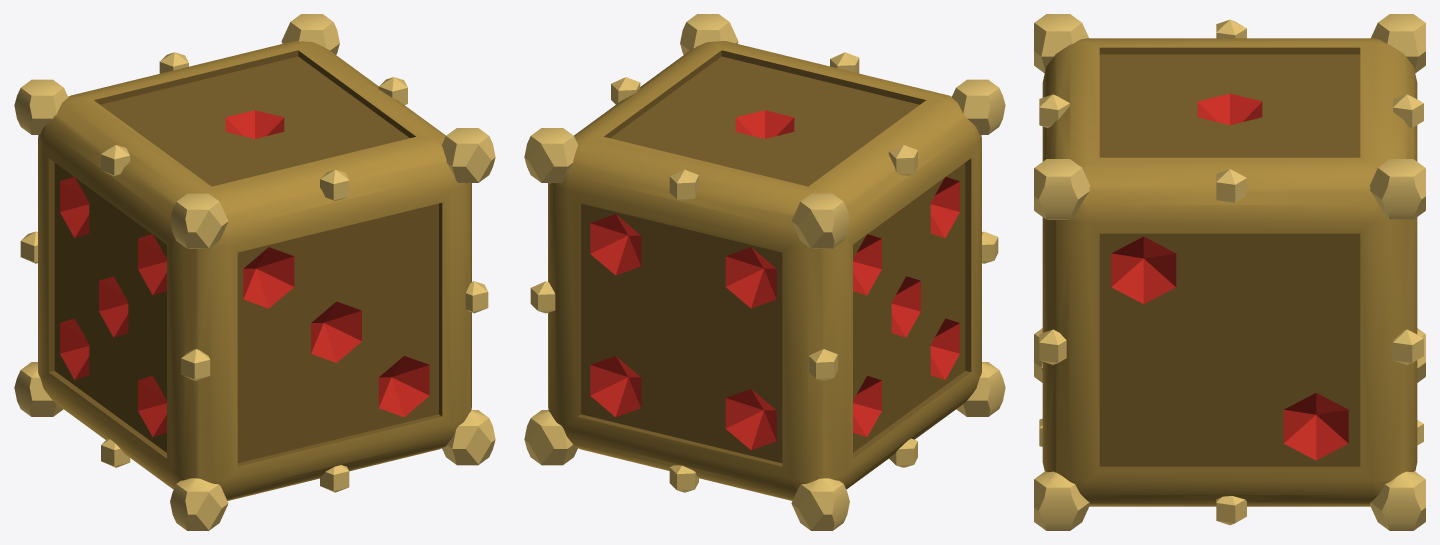
File: gilded_d6.glb
The picture shows the model from 3 angles, left to right: view 1: azimuth 30°, elevation 25°; view 2: azimuth 150°, elevation 25°; view 3: azimuth 270°, elevation 25°; orthographic projection. The views are drawn at different scales.
Parts seen in each view (by area): view 1: GildedD6; view 2: GildedD6; view 3: GildedD6.
Boxes of the visible parts, x1=… form: GildedD6: x1=14, y1=14, x2=495, y2=530; GildedD6: x1=524, y1=14, x2=1005, y2=530; GildedD6: x1=1034, y1=14, x2=1425, y2=530.
Size of the model in its own units: 0.0836 by 0.0836 by 0.0836.
